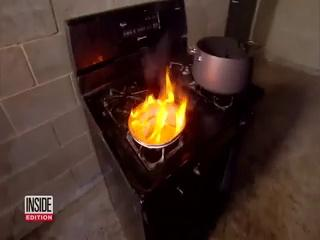Fire: (126, 68, 192, 148)
